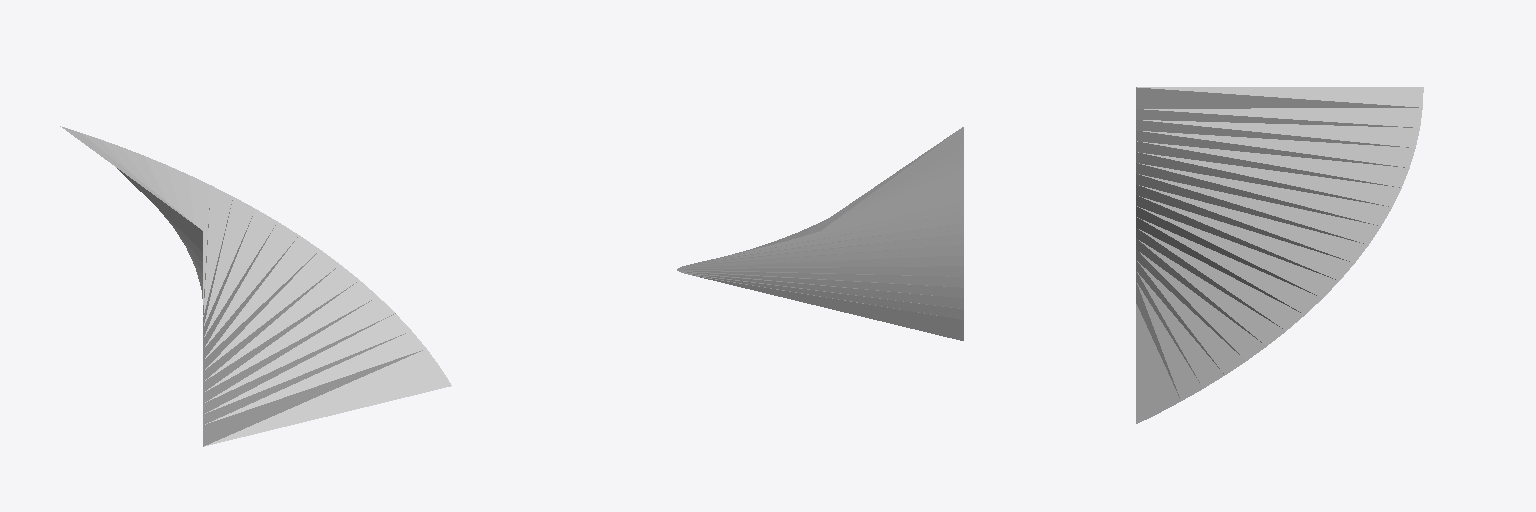
The model's file is staircollision.obj.
3 views of the same model, side by side, from view 1: azimuth 30°, elevation 25°; view 2: azimuth 150°, elevation 25°; view 3: azimuth 270°, elevation 25° (orthographic).
Visible parts, largest first — view 1: pDisc3; view 2: pDisc3; view 3: pDisc3.
Part boxes in pixels (x1,y1,x2,y2): pDisc3: (60, 126, 451, 446); pDisc3: (677, 127, 963, 340); pDisc3: (1136, 87, 1423, 423).
Size of the model in its own units: 12.08 by 10 by 12.08.